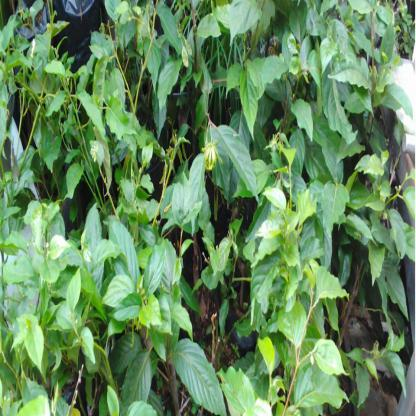Kenanga: (202, 134, 225, 187)
